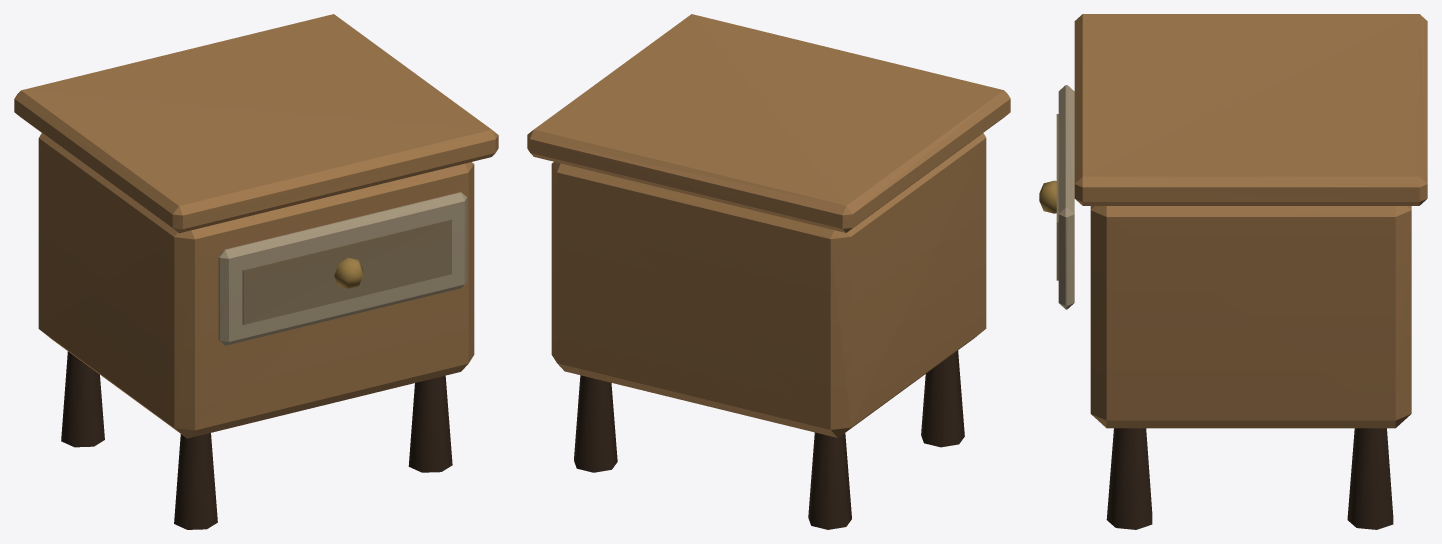
Rendered from nightstand.glb.
3 renders of one model, left to right at view 1: azimuth 30°, elevation 25°; view 2: azimuth 150°, elevation 25°; view 3: azimuth 270°, elevation 25°, orthographic. The views are drawn at different scales.
Parts seen in each view (by area): view 1: nightstand; view 2: nightstand; view 3: nightstand.
Boxes of the visible parts, x1,y1,x2,y2 form: nightstand: [14, 14, 498, 529]; nightstand: [527, 14, 1010, 529]; nightstand: [1039, 14, 1427, 529].
Bounding box in the file's own units: 0.5 × 0.5 × 0.484.
